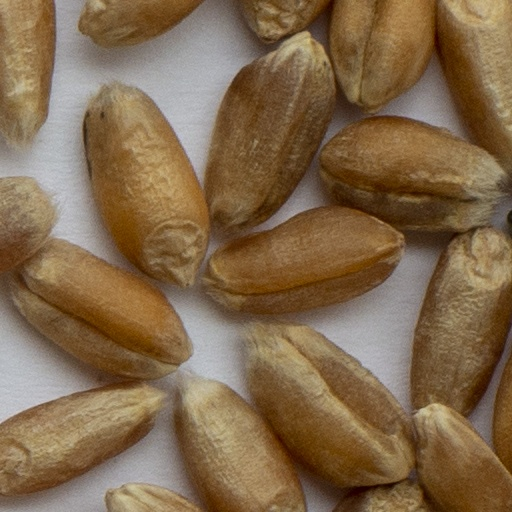Wheat-grain-poly: (434, 0, 511, 186), (326, 0, 436, 113), (80, 0, 211, 46), (240, 0, 327, 39)
